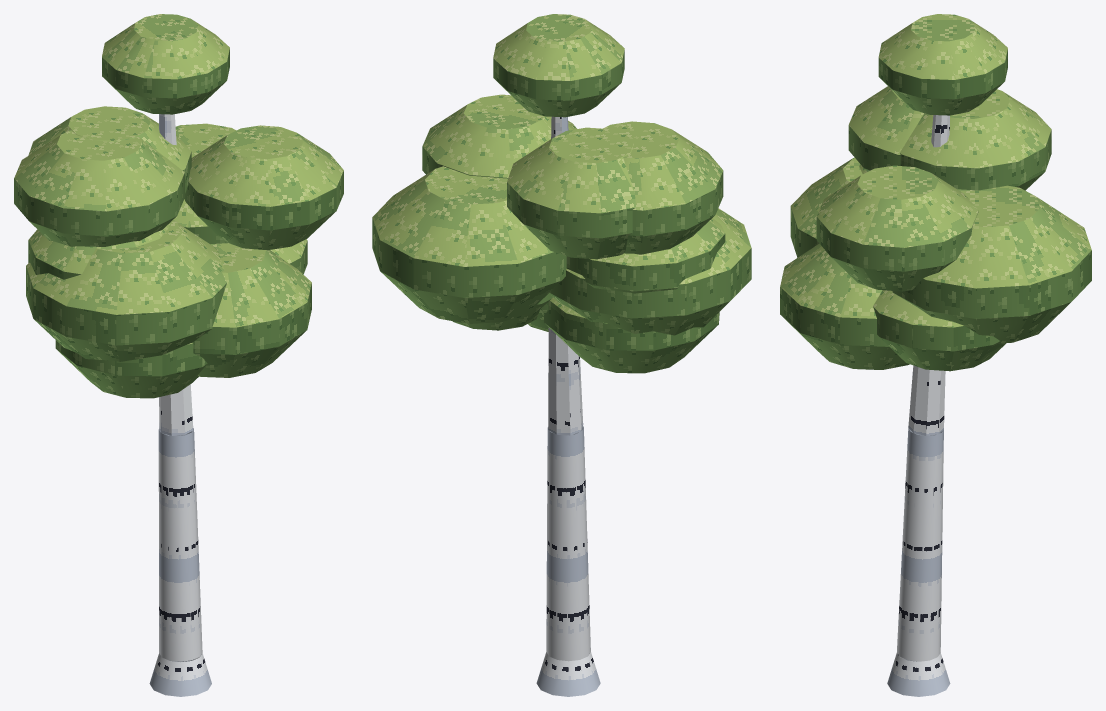
The model's file is birch_4.glb.
3 renders of one model, left to right at view 1: azimuth 30°, elevation 25°; view 2: azimuth 150°, elevation 25°; view 3: azimuth 270°, elevation 25°, orthographic. The views are drawn at different scales.
Parts seen in each view (by area): view 1: birch_5; view 2: birch_5; view 3: birch_5.
Boxes of the visible parts, x1=… form: birch_5: x1=14, y1=14, x2=343, y2=696; birch_5: x1=372, y1=14, x2=751, y2=696; birch_5: x1=780, y1=14, x2=1091, y2=696.
Size of the model in its own units: 2.51 by 5.26 by 2.27.
Materials: 3 (3 with a texture image).
